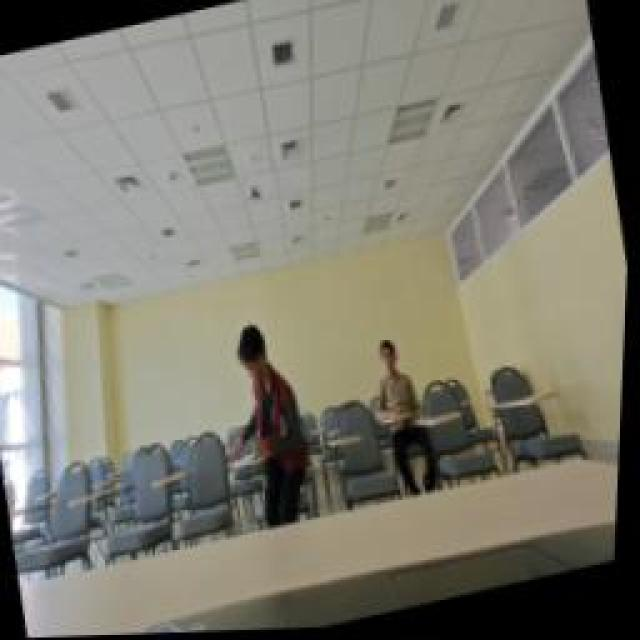study: (365, 335, 430, 427)
